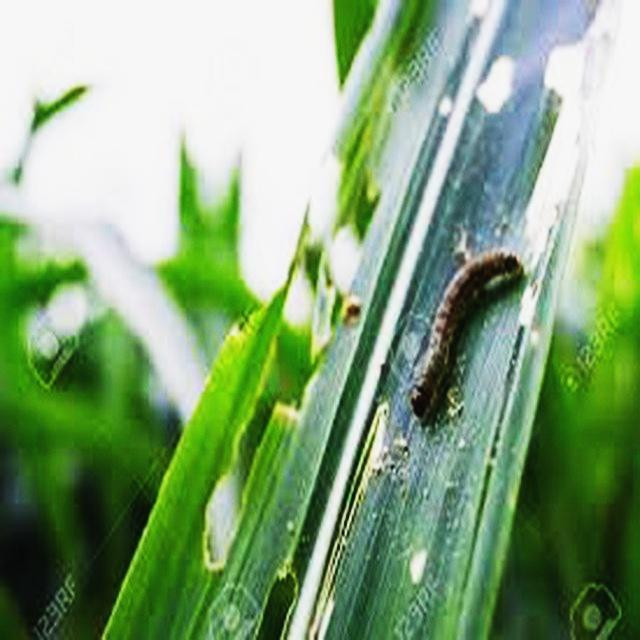worm: (408, 248, 525, 427)
